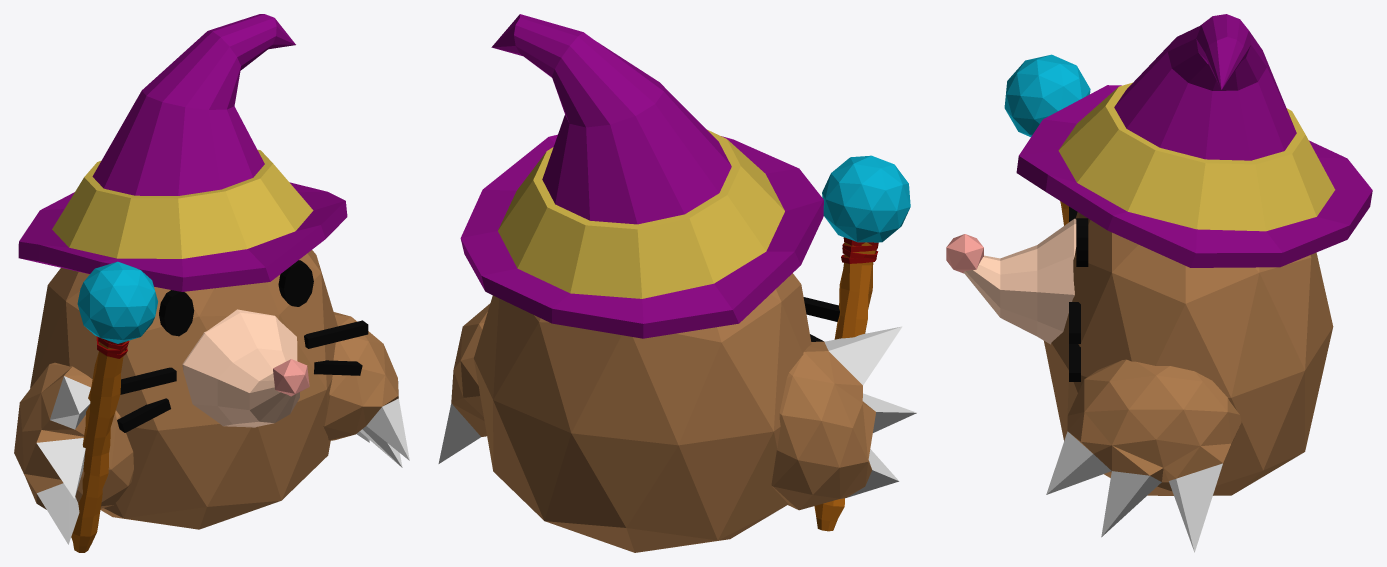
File: doctor_mole.glb
The picture shows the model from 3 angles, left to right: view 1: azimuth 30°, elevation 25°; view 2: azimuth 150°, elevation 25°; view 3: azimuth 270°, elevation 25°; orthographic projection. The views are drawn at different scales.
Parts seen in each view (by area): view 1: Hat.002, Body.016, LeftHand.016, Nose.016, RightHand.016, Cilindro.033, object 14, Cubo.025, eye01.030, eye01.029, NoseTip.015; view 2: Hat.002, Body.016, LeftHand.016, object 14, RightHand.016, Cilindro.033, Cubo.025; view 3: Hat.002, Body.016, RightHand.016, Nose.016, object 14, NoseTip.015, Cubo.025, eye01.029.
Boxes of the visible parts, x1,y1,x2,y2 form: Hat.002: [18, 14, 347, 291]; Body.016: [30, 250, 337, 529]; LeftHand.016: [14, 362, 133, 544]; Nose.016: [182, 309, 299, 427]; RightHand.016: [323, 312, 409, 467]; Cilindro.033: [71, 341, 127, 552]; object 14: [77, 261, 157, 343]; Cubo.025: [117, 320, 368, 432]; eye01.030: [159, 290, 194, 336]; eye01.029: [278, 260, 313, 306]; NoseTip.015: [273, 359, 309, 396]; Hat.002: [460, 14, 823, 338]; Body.016: [473, 273, 811, 552]; LeftHand.016: [771, 326, 916, 510]; object 14: [822, 155, 910, 242]; RightHand.016: [438, 303, 490, 463]; Cilindro.033: [814, 242, 875, 531]; Cubo.025: [803, 297, 839, 341]; Hat.002: [1016, 14, 1372, 267]; Body.016: [1044, 212, 1333, 495]; RightHand.016: [1046, 359, 1241, 552]; Nose.016: [963, 218, 1076, 344]; object 14: [1004, 54, 1090, 137]; NoseTip.015: [946, 234, 983, 273]; Cubo.025: [1069, 206, 1080, 381]; eye01.029: [1076, 218, 1088, 266].
Bounding box in the file's own units: 3.08 × 3.57 × 2.89.
Materials: 1 (1 with a texture image).
